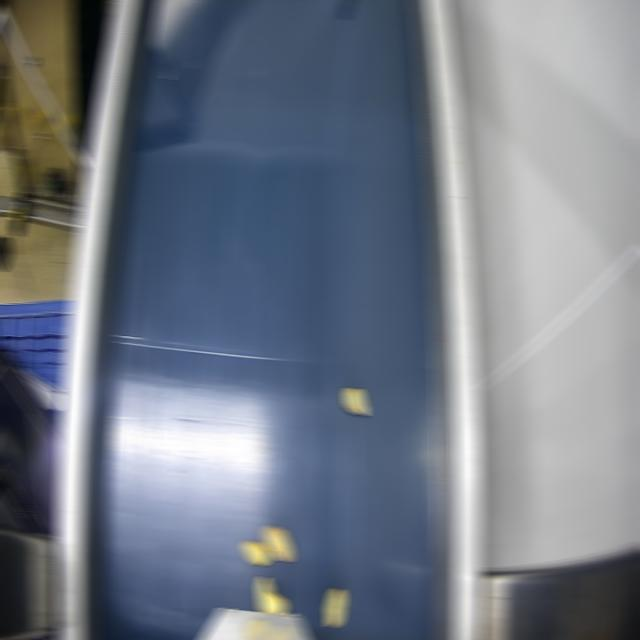Baby Potato: (257, 576, 286, 614), (263, 525, 292, 561), (326, 588, 345, 627), (244, 541, 269, 566), (345, 388, 366, 415)
